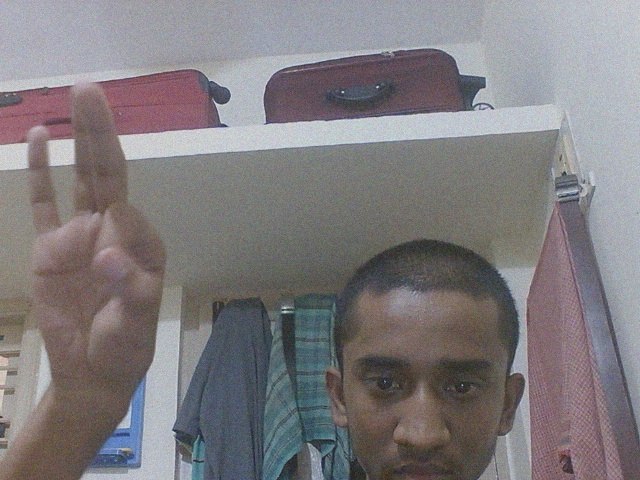hand: (22, 82, 168, 422)
